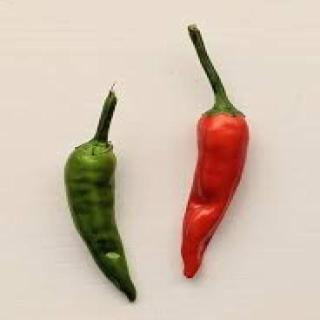Cabai Hijau: (63, 89, 138, 304)
Cabai Merah: (180, 24, 251, 281)
